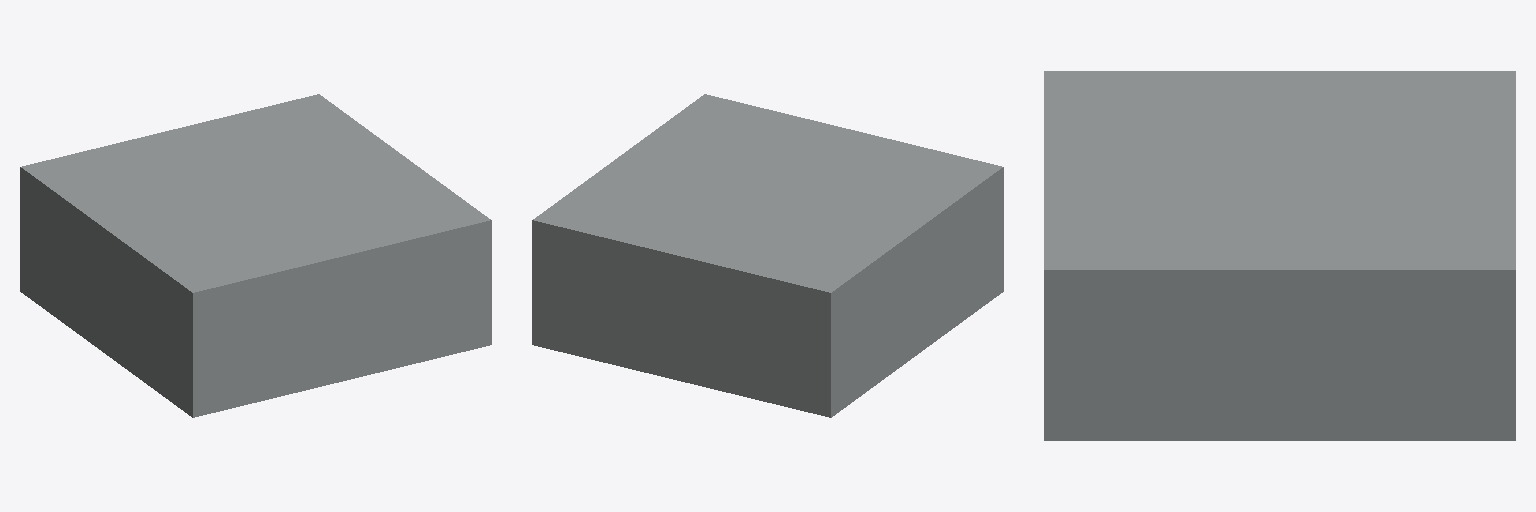
URDF robot description (3070__light_bluish_gray):
<?xml version="1.0"?>
<robot name="3070__light_bluish_gray">
  <link name="3070__light_bluish_gray">
    <inertial>
      <origin xyz="0.000000 0.000000 -0.001424" rpy="0 0 0"/>
      <mass value="0.000176"/>
      <inertia ixx="1.217594942e-09" ixy="-0.000000000e+00" ixz="1.413638742e-26" iyy="1.217594942e-09" iyz="-0.000000000e+00" izz="2.145124352e-09"/>
    </inertial>
    <visual>
      <geometry>
        <mesh filename="../meshes/visual/3070.obj" scale="1 1 1"/>
      </geometry>
      <material name="3070__light_bluish_gray_color">
        <color rgba="0.630 0.650 0.650 1.000"/>
      </material>
    </visual>
    <collision>
      <geometry>
        <mesh filename="../meshes/collision/3070_hull.obj" scale="1 1 1"/>
      </geometry>
    </collision>
  </link>
</robot>

--- What the picture shows (computed from the rendered views, not written in the file) ---
The picture shows the robot from 3 angles, left to right: view 1: azimuth 30°, elevation 25°; view 2: azimuth 150°, elevation 25°; view 3: azimuth 270°, elevation 25°; orthographic projection.
Model 3070__light_bluish_gray with 1 links and 0 joints (none), rooted at 3070__light_bluish_gray, posed all joints at 0.
Links seen in each view (by area): view 1: 3070__light_bluish_gray; view 2: 3070__light_bluish_gray; view 3: 3070__light_bluish_gray.
Boxes of the visible links, <box> form: 3070__light_bluish_gray: <box>20,94,491,417</box>; 3070__light_bluish_gray: <box>532,94,1003,417</box>; 3070__light_bluish_gray: <box>1044,71,1515,440</box>.
Bounding box of the posed robot: 0.008 × 0.008 × 0.0032 m (x, y, z).
1 mesh visuals loaded from 1 distinct referenced files (1 OBJ).
